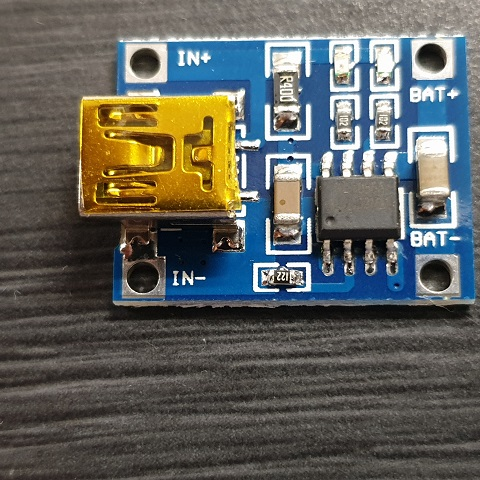batt+: (410, 38, 448, 76)
batt-: (420, 254, 456, 296)
charge: (328, 36, 360, 94)
done: (364, 38, 394, 92)
rprog: (256, 266, 308, 292)
usb: (74, 100, 241, 224)
